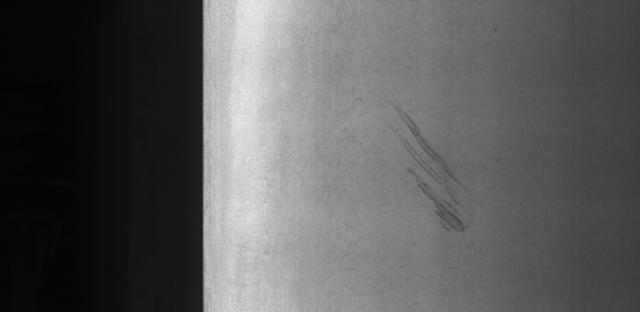water_spot: (365, 99, 493, 252)
